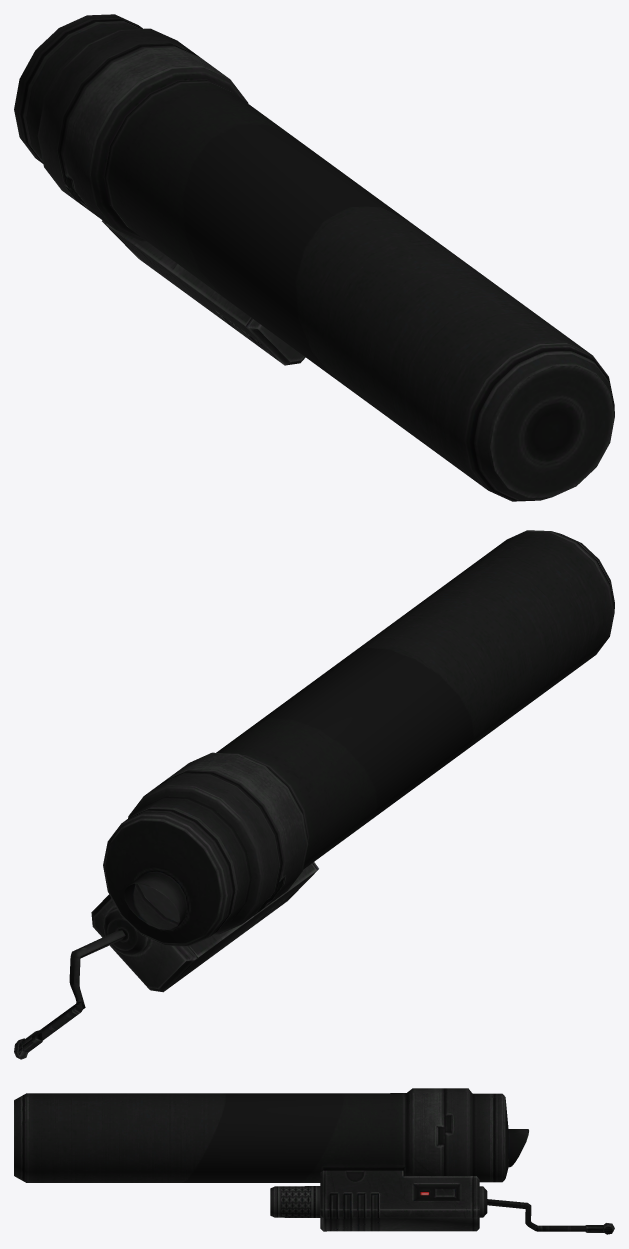
File: SOCOM Silencer.fbx
The picture shows the model from 3 angles, top to bottom: view 1: azimuth 30°, elevation 25°; view 2: azimuth 150°, elevation 25°; view 3: azimuth 270°, elevation 25°; orthographic projection. The views are drawn at different scales.
Parts seen in each view (by area): view 1: MainBody; view 2: MainBody; view 3: MainBody.
Boxes of the visible parts, box(x1,y1,x2,y2) form: MainBody: box(14, 14, 614, 501); MainBody: box(14, 530, 614, 1059); MainBody: box(14, 1088, 614, 1234).
Size of the model in its own units: 6.44 by 7.73 by 32.99.
